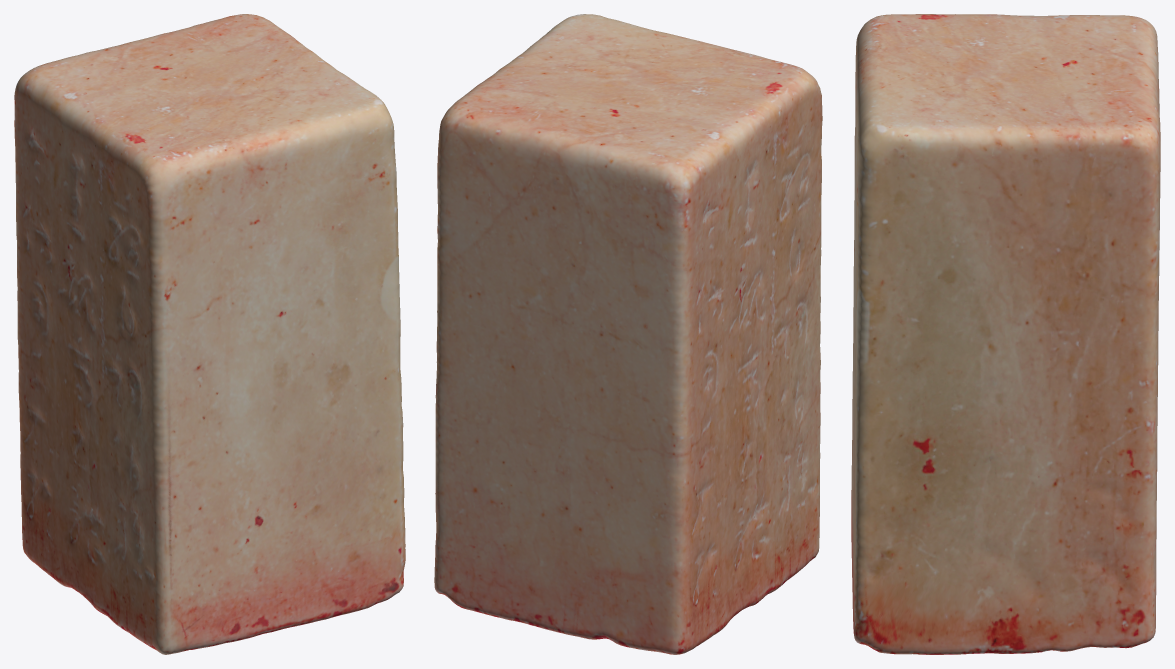
3 renders of one model, left to right at view 1: azimuth 30°, elevation 25°; view 2: azimuth 150°, elevation 25°; view 3: azimuth 270°, elevation 25°, orthographic. The views are drawn at different scales.
Visible parts, largest first — view 1: lowpoly.009; view 2: lowpoly.009; view 3: lowpoly.009.
Part boxes in pixels (<box>): lowpoly.009: <box>14,14,405,654</box>; lowpoly.009: <box>434,14,822,654</box>; lowpoly.009: <box>851,14,1160,654</box>.
Bounding box in the file's own units: 6.27 × 11.54 × 6.2.
1 material, 1 textured.
